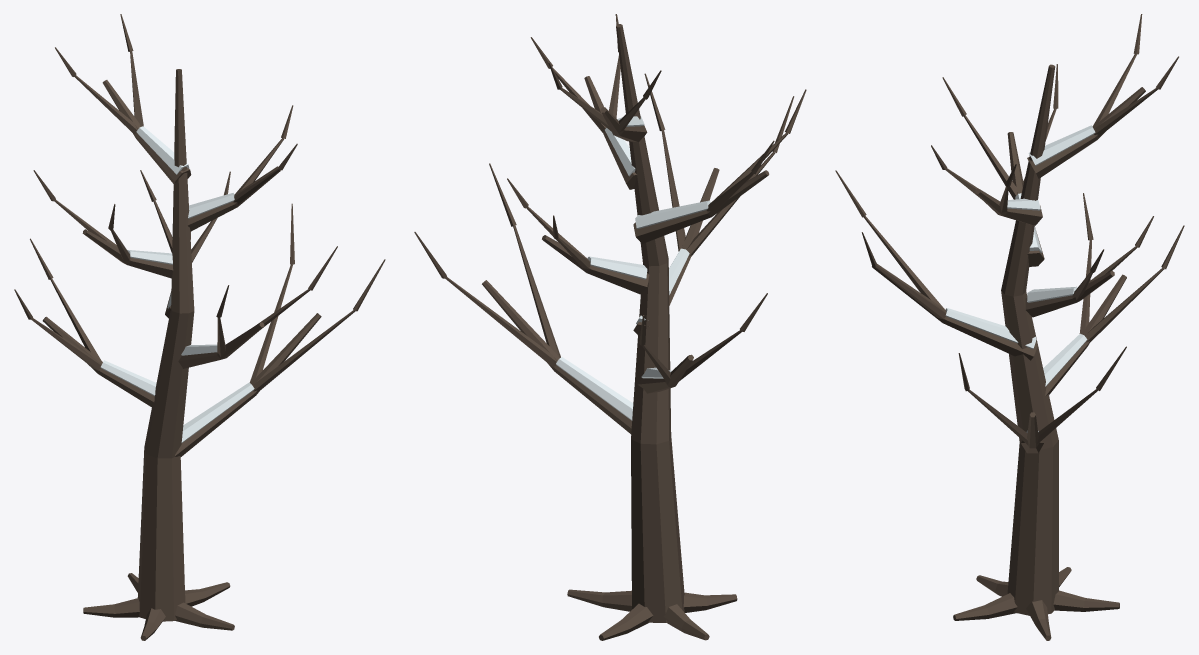
The model's file is TREE_15_BareSmall.glb.
The picture shows the model from 3 angles, left to right: view 1: azimuth 30°, elevation 25°; view 2: azimuth 150°, elevation 25°; view 3: azimuth 270°, elevation 25°; orthographic projection. The views are drawn at different scales.
Parts seen in each view (by area): view 1: TREE_15_BareSmall; view 2: TREE_15_BareSmall; view 3: TREE_15_BareSmall.
Part boxes in pixels (bbox=[...]): TREE_15_BareSmall: bbox=[14, 14, 385, 640]; TREE_15_BareSmall: bbox=[414, 14, 806, 640]; TREE_15_BareSmall: bbox=[835, 14, 1184, 640].
Size of the model in its own units: 2.34 by 3.89 by 2.18.
